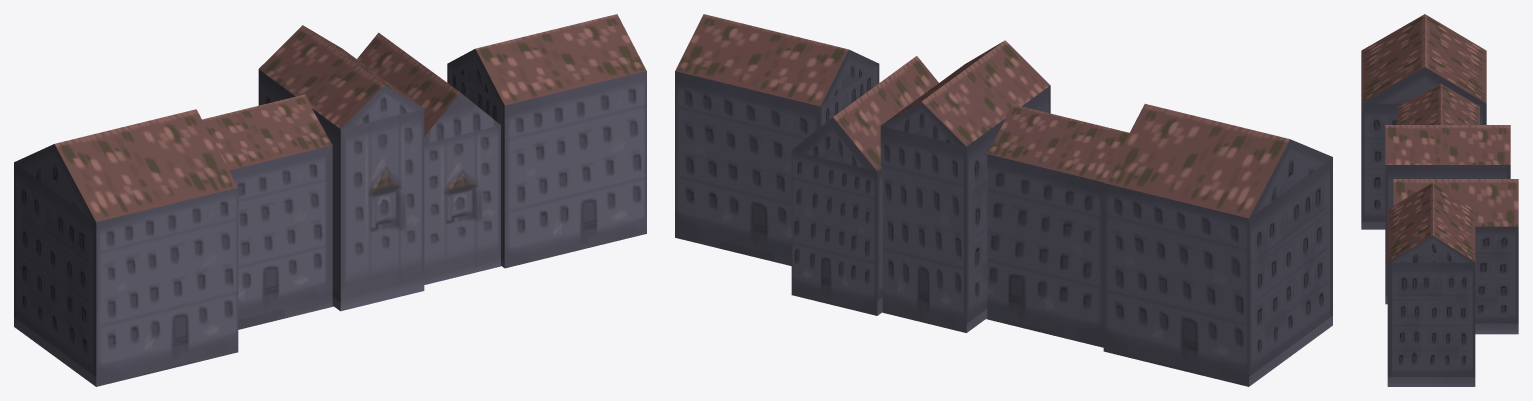
The model's file is obstacle_house1.fbx.
3 views of the same model, side by side, from view 1: azimuth 30°, elevation 25°; view 2: azimuth 150°, elevation 25°; view 3: azimuth 270°, elevation 25° (orthographic). The views are drawn at different scales.
Parts seen in each view (by area): view 1: obstacle_houses1; view 2: obstacle_houses1; view 3: obstacle_houses1.
Boxes of the visible parts, x1,y1,x2,y2 form: obstacle_houses1: (14, 14, 646, 386); obstacle_houses1: (675, 14, 1332, 386); obstacle_houses1: (1361, 14, 1518, 386).
Bounding box in the file's own units: 4001 × 1459 × 1257.
1 material, 1 textured.
